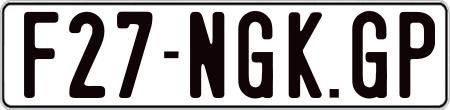2: (67, 10, 105, 100)
7: (117, 10, 155, 102)
F: (22, 11, 58, 102)
G: (235, 11, 276, 103), (350, 10, 385, 102)
K: (287, 11, 325, 103)
N: (187, 10, 224, 100)
P: (399, 12, 438, 102)
